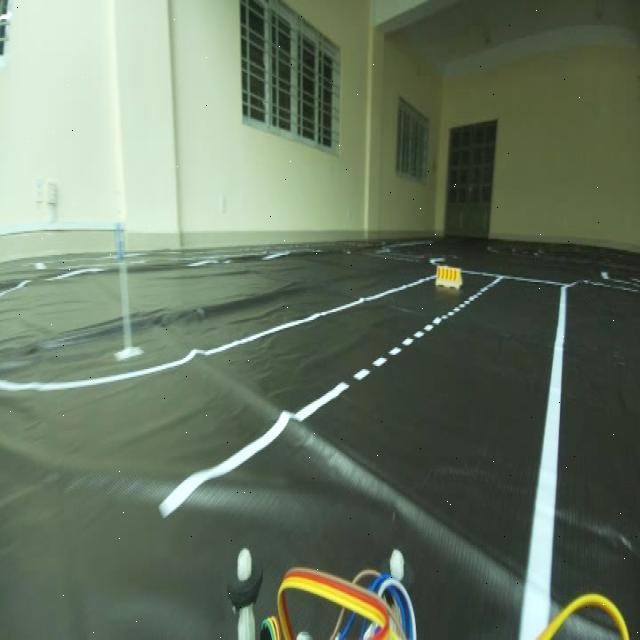onewayroad: (114, 223, 128, 257)
roadblock: (434, 257, 458, 290)
